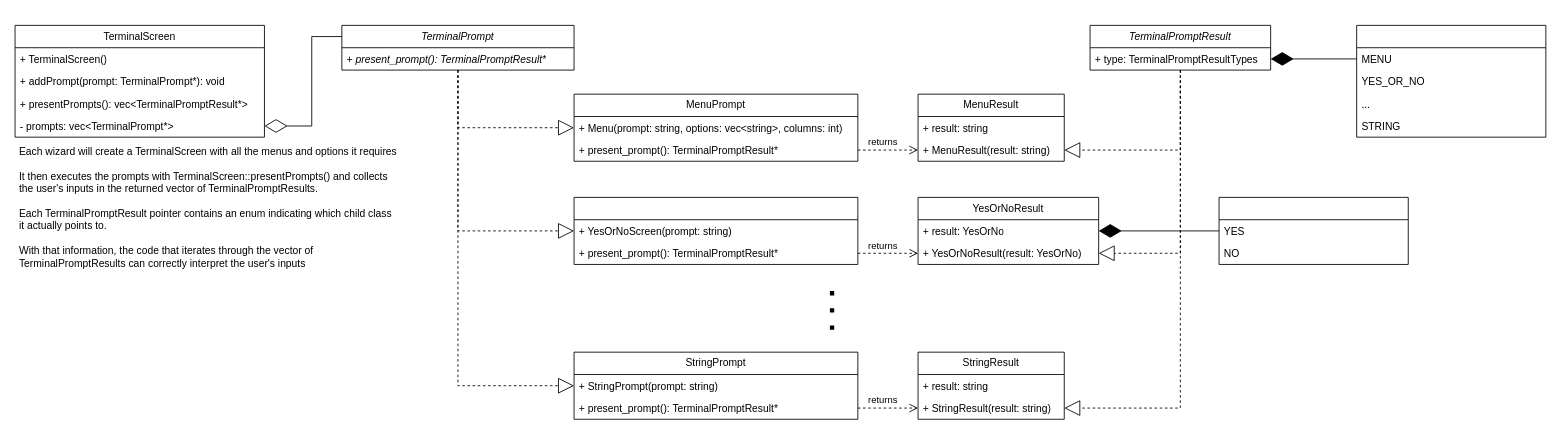
This 1561x439 diagram has some shape labels left out. Here are the shapes that lost their labels. From the top down, the box of each, then its label:
(1356, 25, 1546, 137): Enum: TerminalPromptResultTypes
(573, 197, 858, 264): YesOrNoPrompt
(1218, 197, 1408, 264): Enum: YesOrNo
